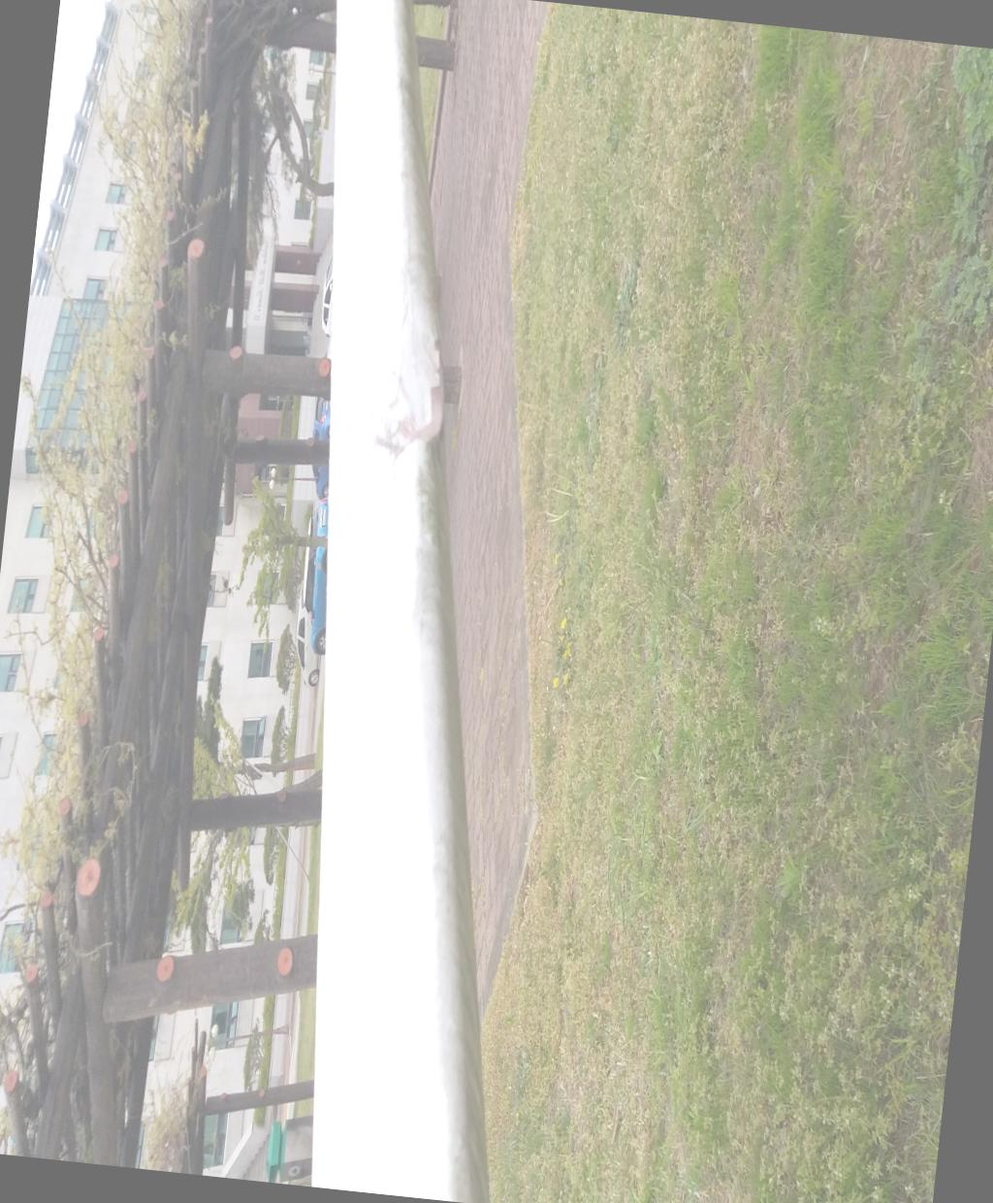corrosion: (163, 244, 282, 452)
